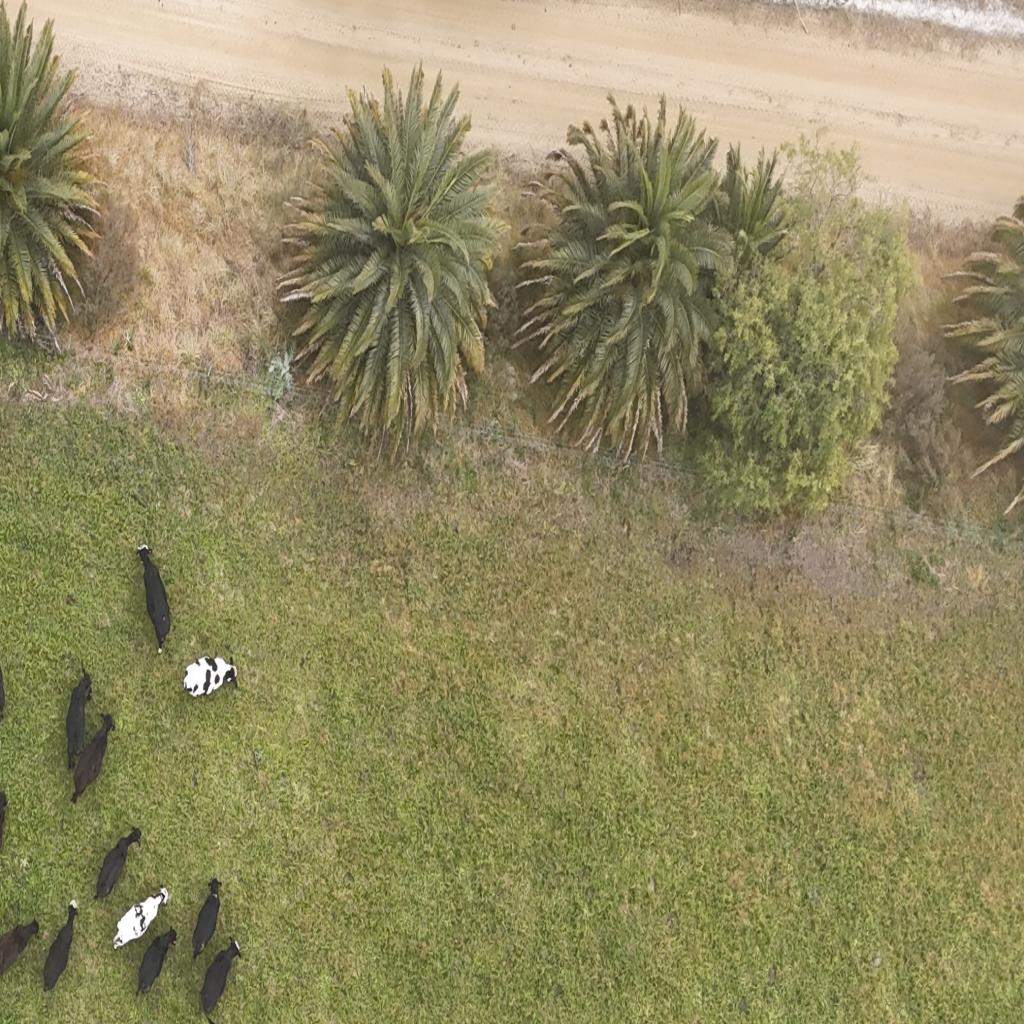cow: (70, 712, 116, 804), (136, 545, 172, 656), (112, 884, 170, 949), (199, 936, 242, 1023), (93, 828, 142, 901), (42, 902, 80, 995), (135, 926, 178, 998), (181, 651, 240, 703), (0, 917, 40, 986), (66, 668, 93, 770), (191, 879, 222, 963)
